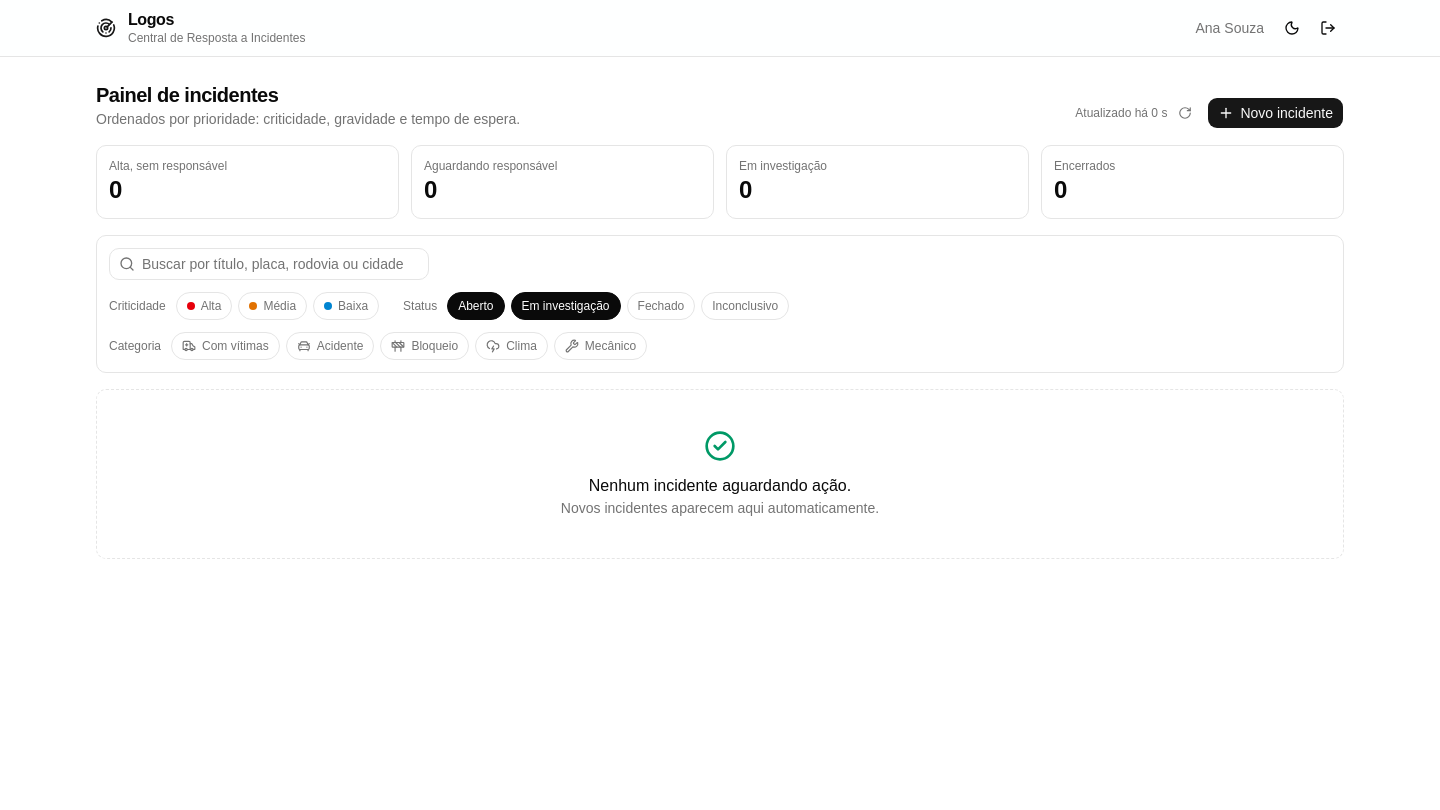
Test: criar incidente › rejeita Placa inválida
Click the button "Novo incidente": (1276, 113) top-left (1207, 97), bottom-right (1344, 129)
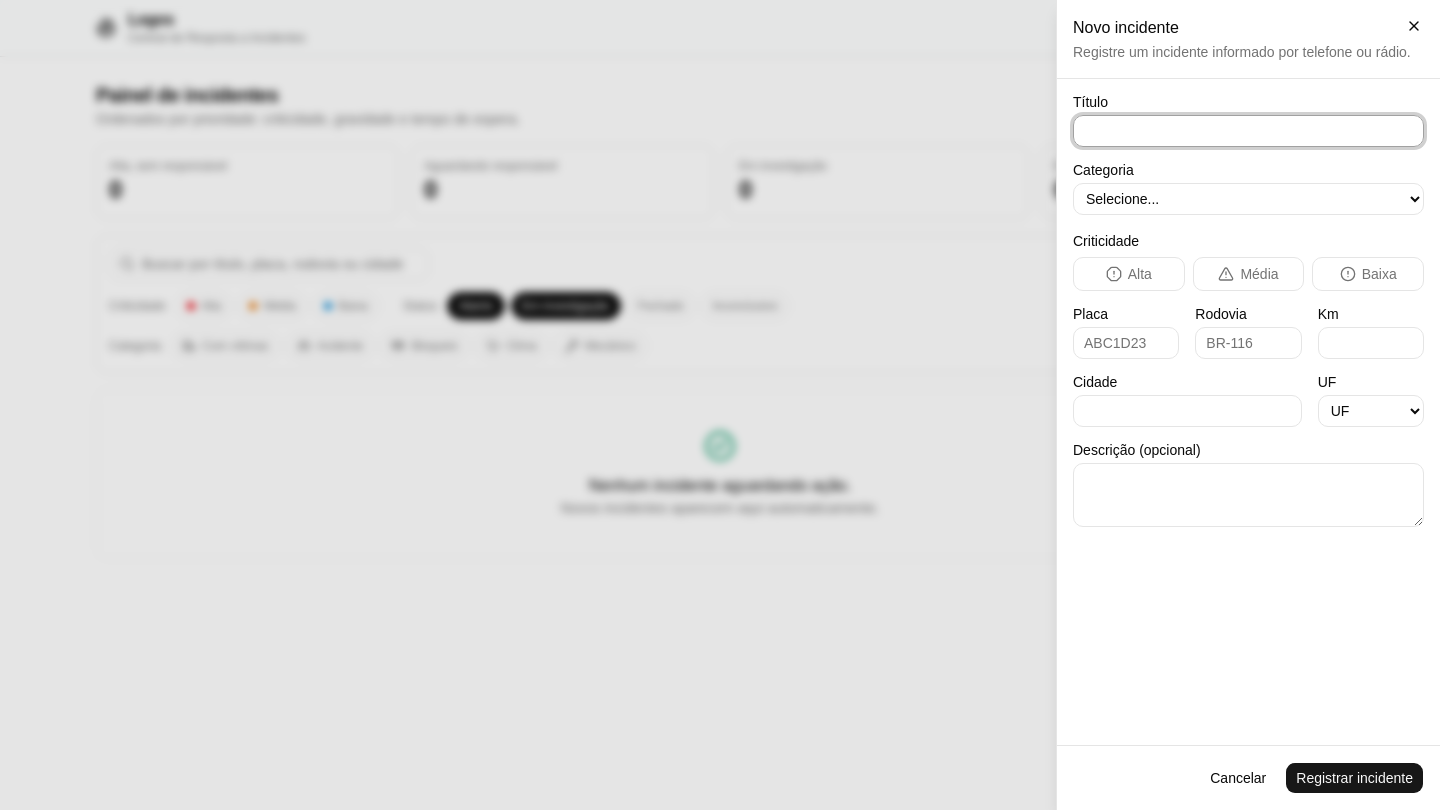
In the field labelled "Placa": (1126, 343) top-left (1073, 327), bottom-right (1179, 359), type "1234ABC"
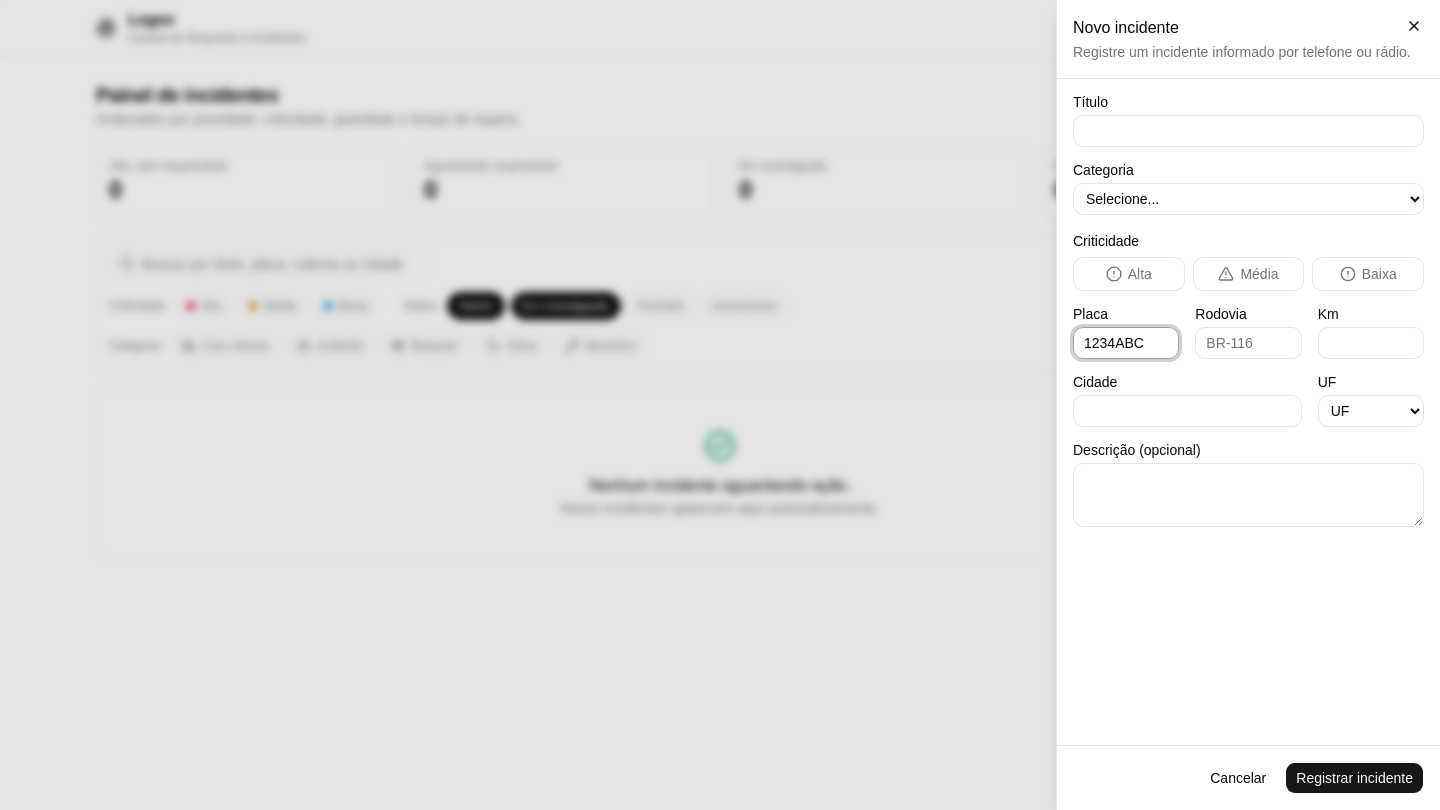
Click the button "Registrar incidente": (1355, 778) top-left (1285, 762), bottom-right (1424, 794)
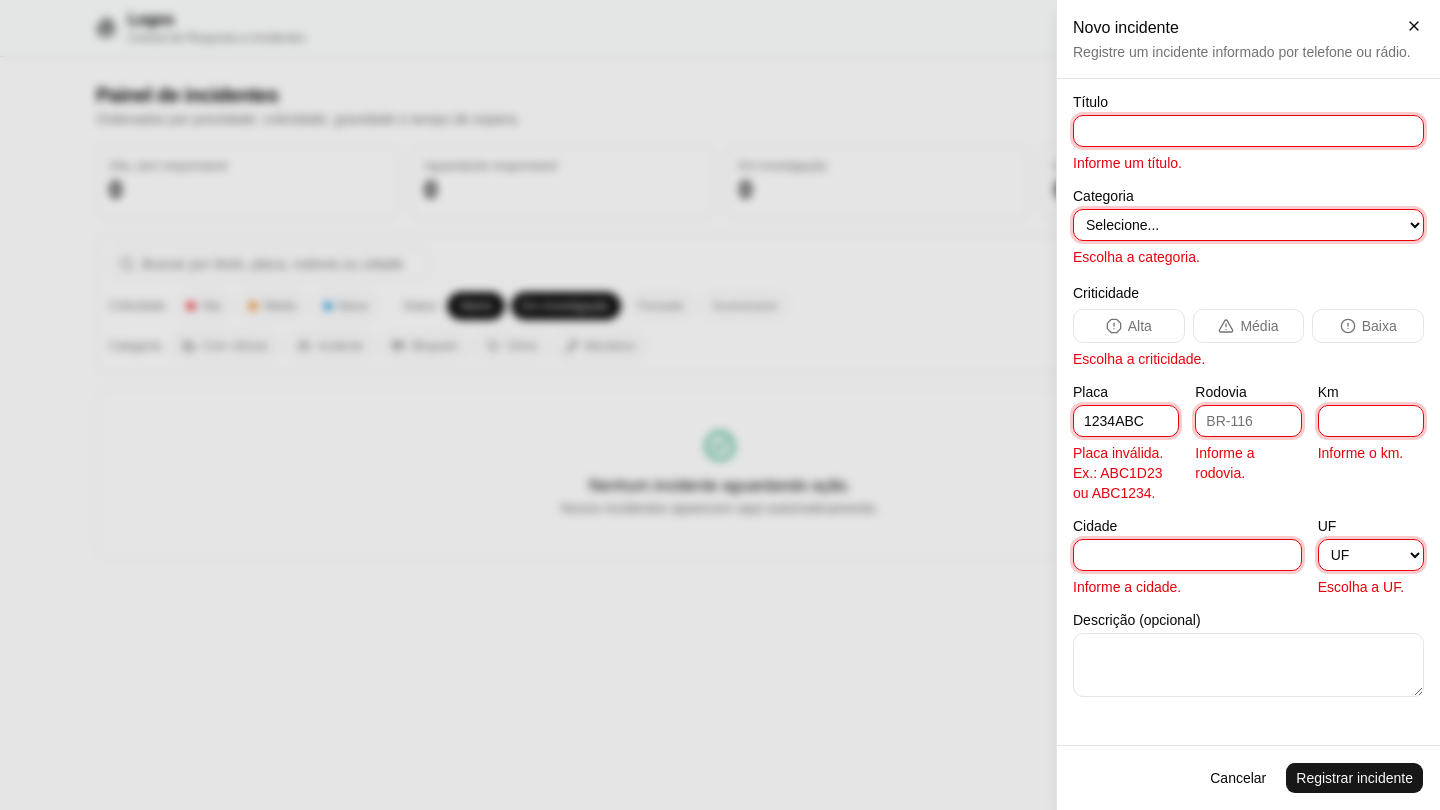
Result: the text "Placa inválida. Ex.: ABC1D23 ou ABC1234." is shown at top-left (1073, 445), bottom-right (1163, 501)
